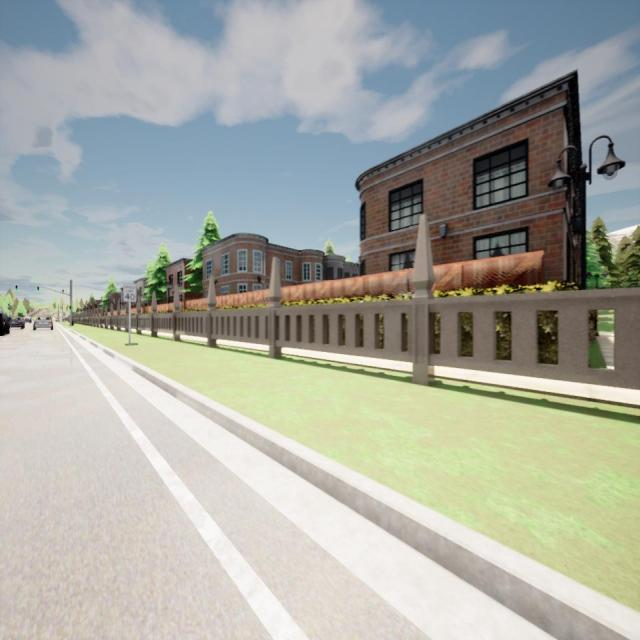Traffic_Signs: (124, 284, 136, 302)
Vehicle: (33, 316, 53, 331), (0, 310, 10, 335), (10, 316, 24, 329), (24, 316, 32, 324)
traffic_light: (15, 285, 18, 291), (37, 286, 39, 292), (69, 306, 71, 311)
